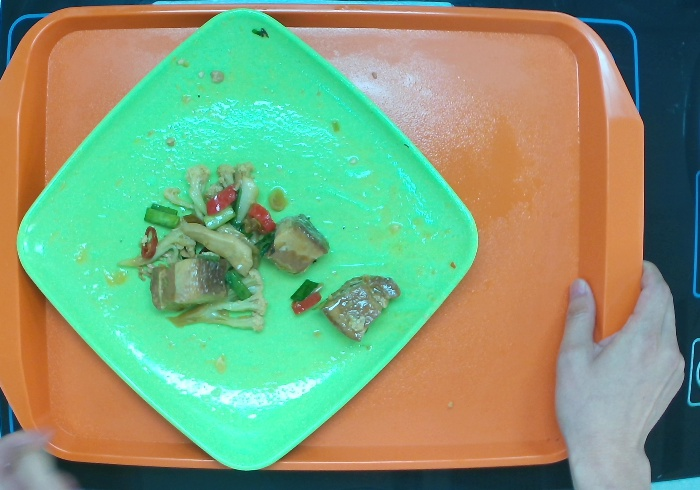ZNLD-Lv_Fang_Pan: (12, 8, 481, 473)
